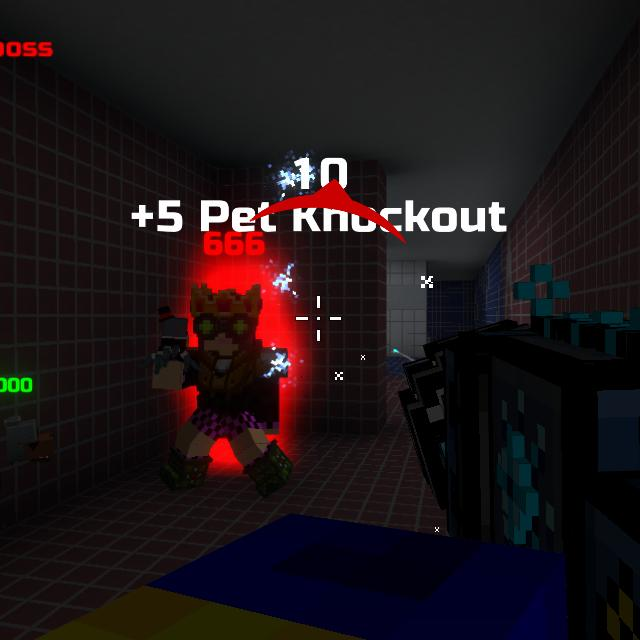Enemy: (155, 294, 296, 498)
